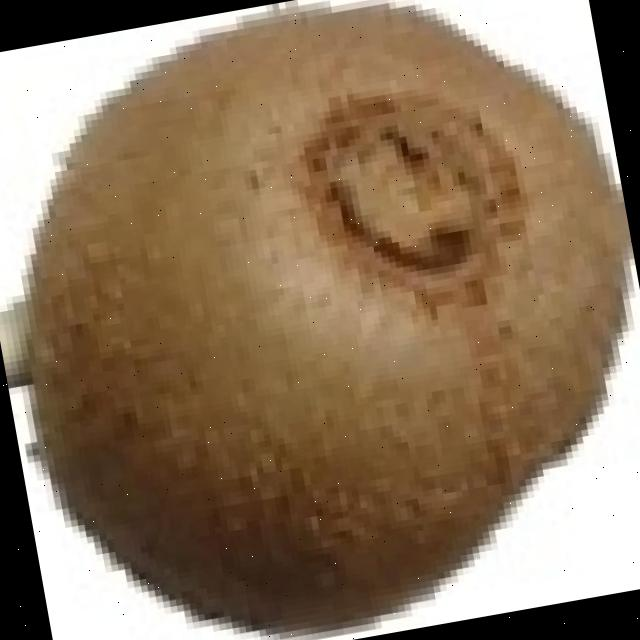kiwi: (0, 5, 624, 631)
